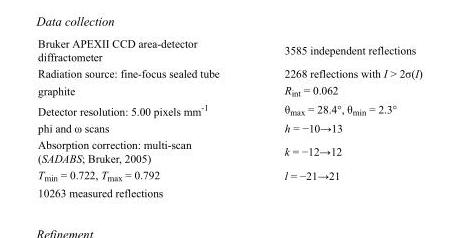table: (37, 36, 421, 198)
table column: (37, 36, 251, 198), (251, 36, 421, 198)
table row: (37, 135, 421, 166), (37, 36, 421, 64), (37, 99, 421, 119), (37, 81, 421, 99), (37, 166, 421, 184), (37, 64, 421, 81), (37, 119, 421, 135), (37, 184, 421, 198)
